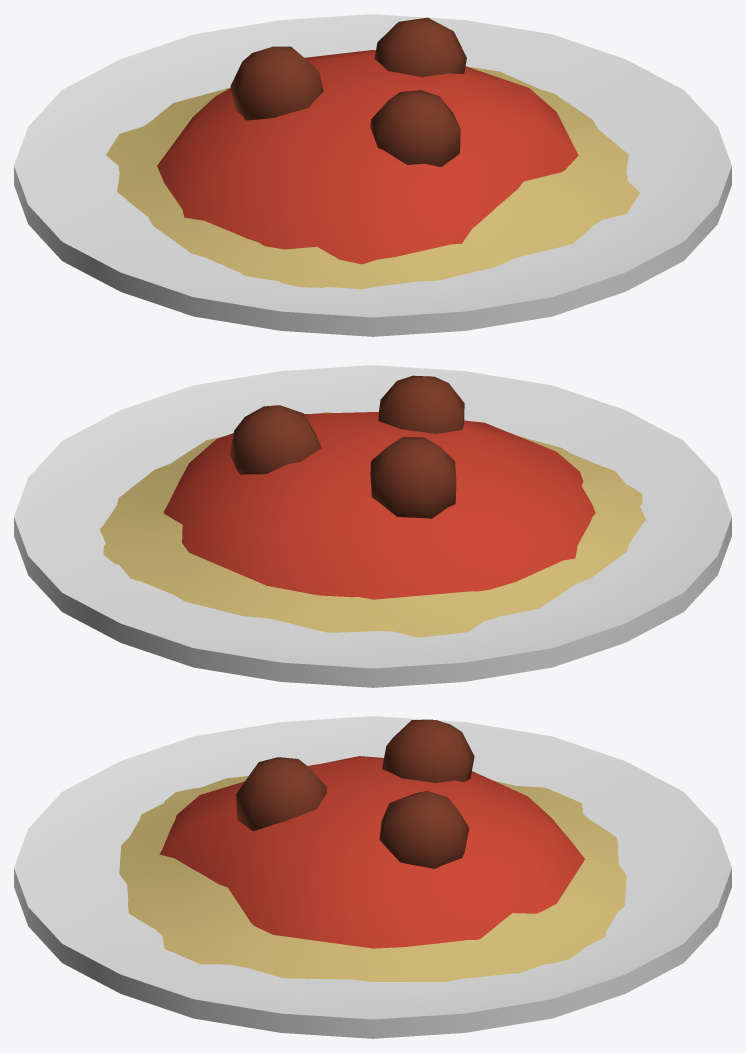
The model's file is Bolognese_01.fbx.
3 views of the same model, one above another, from view 1: azimuth 30°, elevation 25°; view 2: azimuth 150°, elevation 25°; view 3: azimuth 270°, elevation 25° (orthographic).
Visible parts, largest first — view 1: Bolognese_01; view 2: Bolognese_01; view 3: Bolognese_01.
Part boxes in pixels (<box>): Bolognese_01: <box>14,14,731,336</box>; Bolognese_01: <box>14,365,731,687</box>; Bolognese_01: <box>14,716,731,1038</box>.
Bounding box in the file's own units: 0.2248 × 0.0608 × 0.2248.
